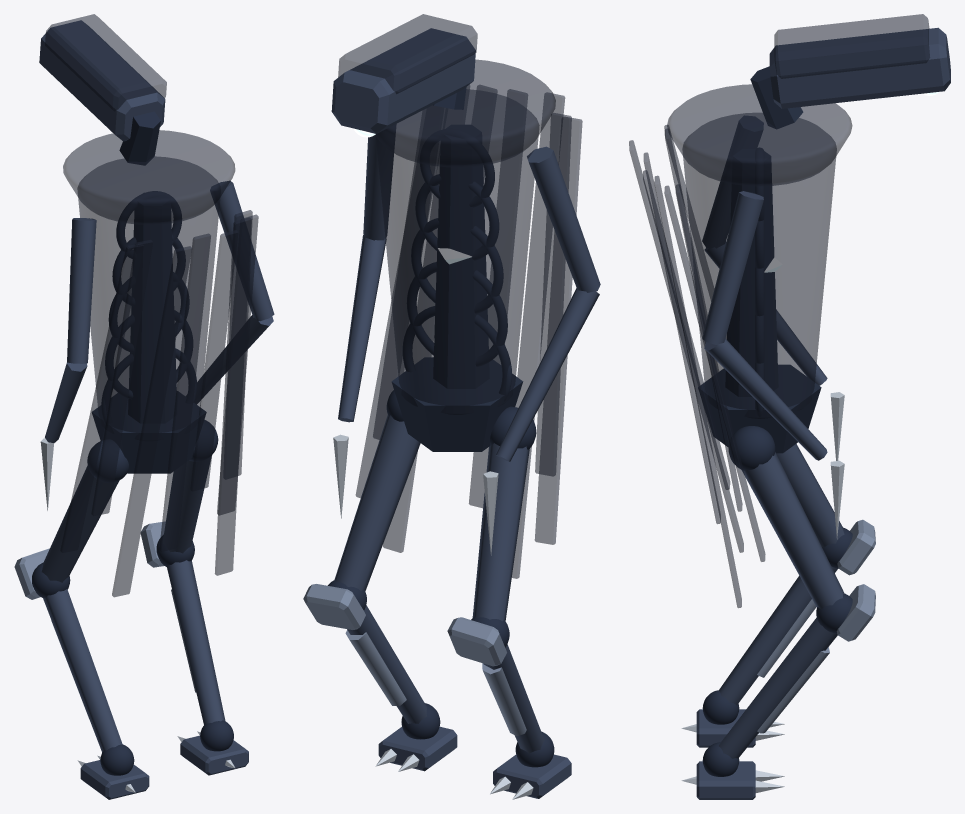
File: enemy_shade.glb
3 renders of one model, left to right at view 1: azimuth 30°, elevation 25°; view 2: azimuth 150°, elevation 25°; view 3: azimuth 270°, elevation 25°, orthographic. The views are drawn at different scales.
Visible parts, largest first — view 1: shade_shell, shade_shell_collar, shade_spine, shade_head, shade_vane2, shade_vane5, shade_head_shell, shade_vane4, shade_vane7, shade_pelvis, shade_vane6, shade_vane3 (+27 smaller); view 2: shade_shell, shade_shell_collar, shade_spine, shade_head, shade_pelvis, shade_vane7, shade_head_shell, shade_leg_r_thigh, shade_vane5, shade_leg_l_thigh, shade_vane6, shade_upper_arm_l (+25 smaller); view 3: shade_shell, shade_shell_collar, shade_head, shade_head_shell, shade_spine, shade_leg_r_thigh, shade_pelvis, shade_leg_r_shin, shade_upper_arm_r, shade_leg_l_shin, shade_forearm_r, shade_vane2 (+24 smaller).
Boxes of the visible parts, x1,y1,x2,y2 form: shade_shell: (77,156,220,440); shade_shell_collar: (63,130,235,224); shade_spine: (128,195,176,423); shade_head: (39,20,165,141); shade_vane2: (215,217,251,575); shade_vane5: (112,246,192,597); shade_head_shell: (45,14,166,111); shade_vane4: (159,233,210,551); shade_vane7: (60,243,143,552); shade_pelvis: (92,391,206,473); shade_vane6: (91,240,152,515); shade_vane3: (190,230,238,491); shade_shell: (376,89,539,414); shade_shell_collar: (375,59,555,166); shade_spine: (433,125,489,388); shade_head: (331,28,475,133); shade_pelvis: (391,357,523,451); shade_vane7: (534,117,582,544); shade_head_shell: (338,14,477,93); shade_leg_r_thigh: (334,415,420,590); shade_vane5: (511,92,565,578); shade_leg_l_thigh: (472,443,529,621); shade_vane6: (535,113,571,475); shade_upper_arm_l: (527,146,600,292); shade_shell: (682,113,836,418); shade_shell_collar: (667,84,852,185); shade_head: (769,27,950,108); shade_head_shell: (774,14,929,78); shade_spine: (725,149,778,396); shade_leg_r_thigh: (742,452,844,609); shade_pelvis: (698,364,821,453); shade_leg_r_shin: (719,617,837,758); shade_upper_arm_r: (702,191,763,344); shade_leg_l_shin: (718,566,838,705); shade_forearm_r: (704,338,827,460); shade_vane2: (654,175,741,607).
Bounding box in the file's own units: 0.559 × 1.79 × 0.7072.
